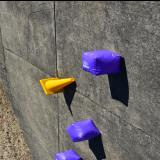cone: (39, 76, 75, 94)
cube: (82, 49, 122, 75), (65, 118, 102, 142), (54, 148, 82, 160)
